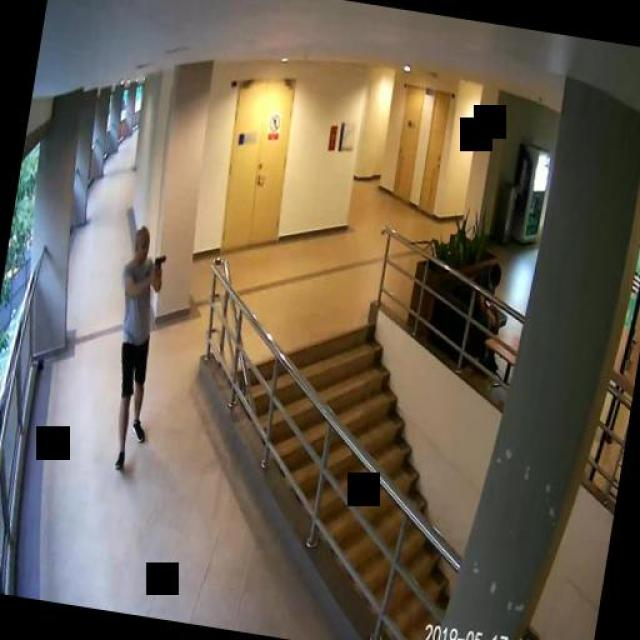gun: (150, 251, 164, 279)
